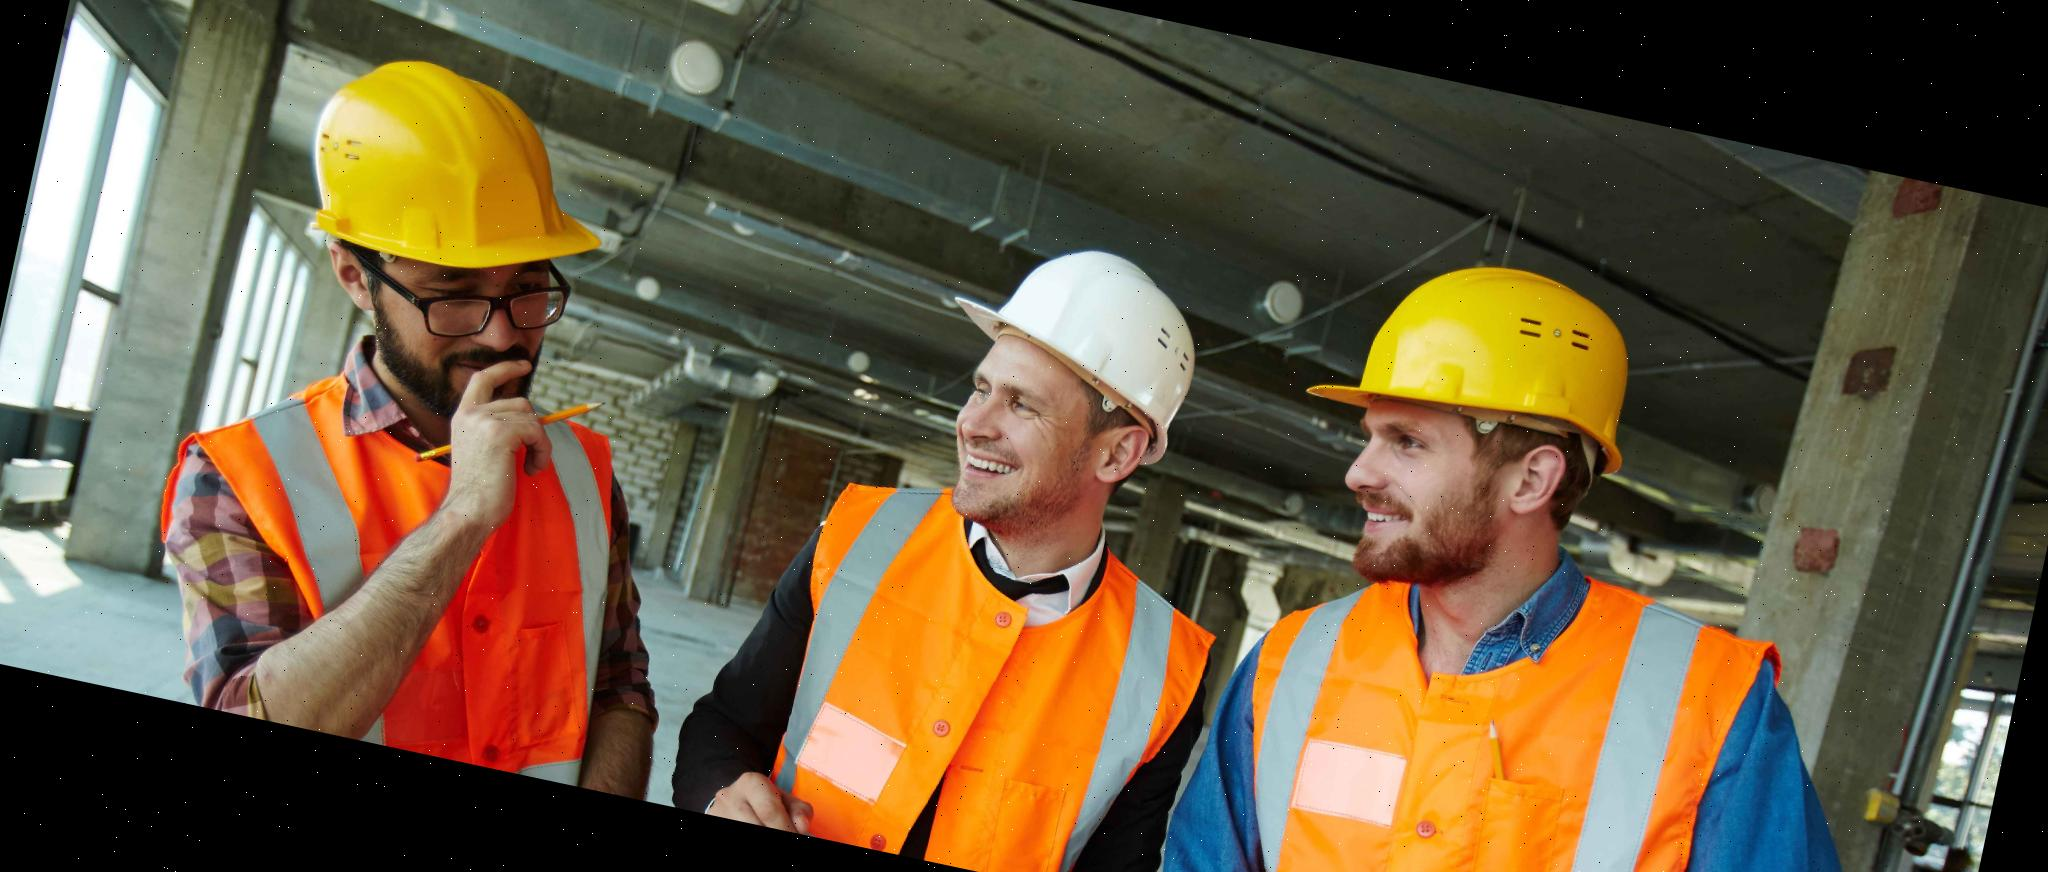helmet: (286, 37, 635, 299), (1307, 232, 1659, 474), (923, 219, 1216, 476)
wear: (133, 349, 647, 786), (1173, 537, 1818, 872), (735, 486, 1232, 872)
